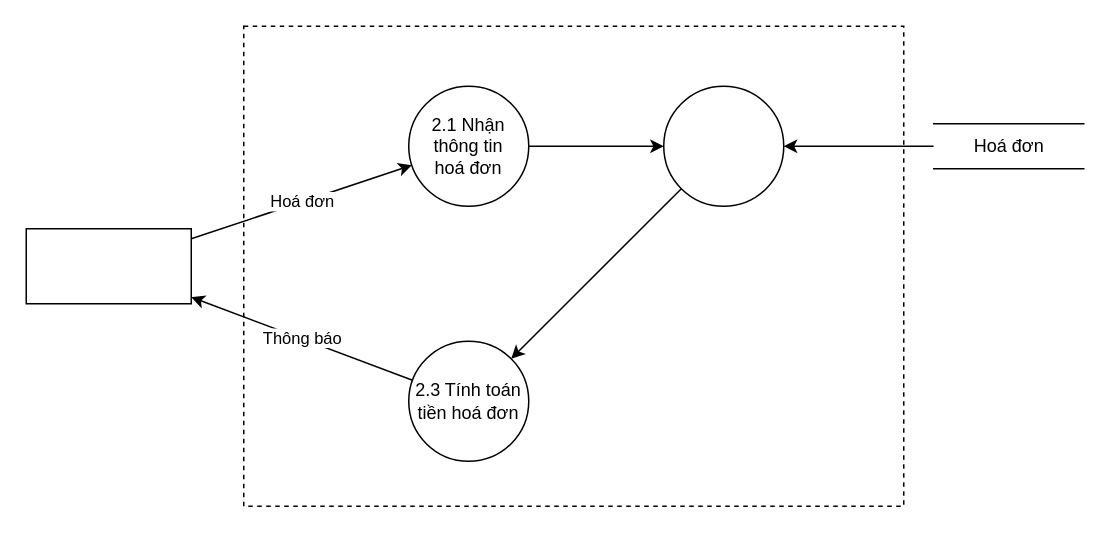
Image size: 1110x533. Some labels were removed from this diagram. Here are the shapes that lost their labels. From the top down, the centre of each, then its label:
[723,145]: 2.2 Lấy chi tiết hoá đơn
[108,265]: Nhân viên & Quản lý
